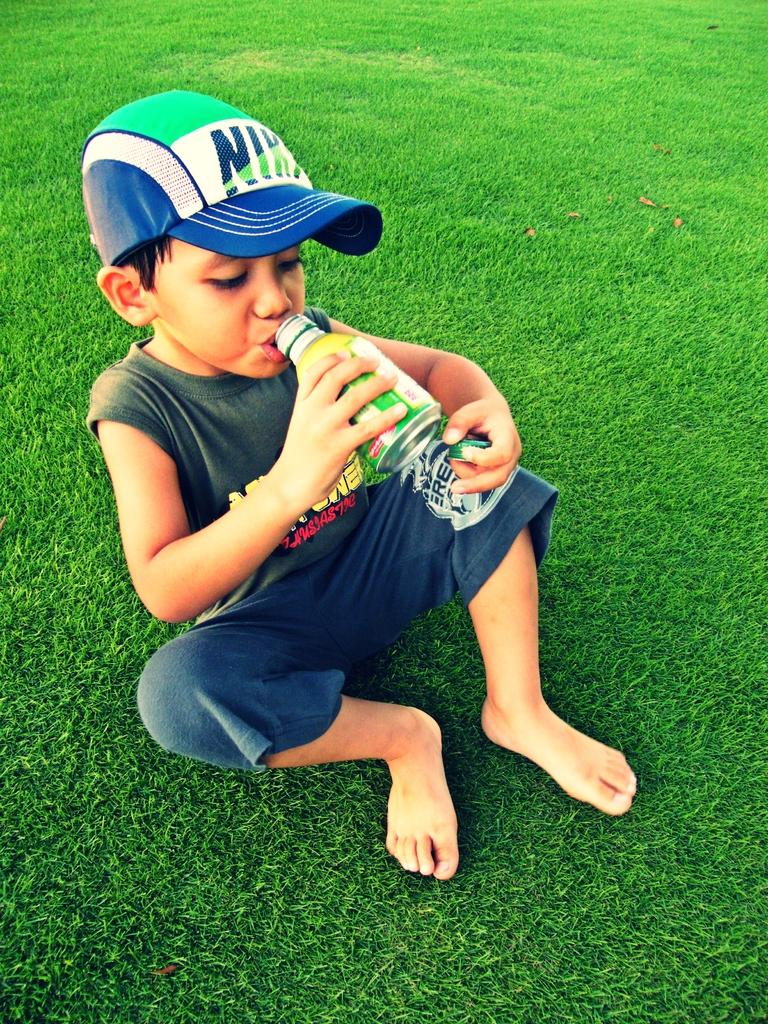Hat: (87, 88, 364, 306)
